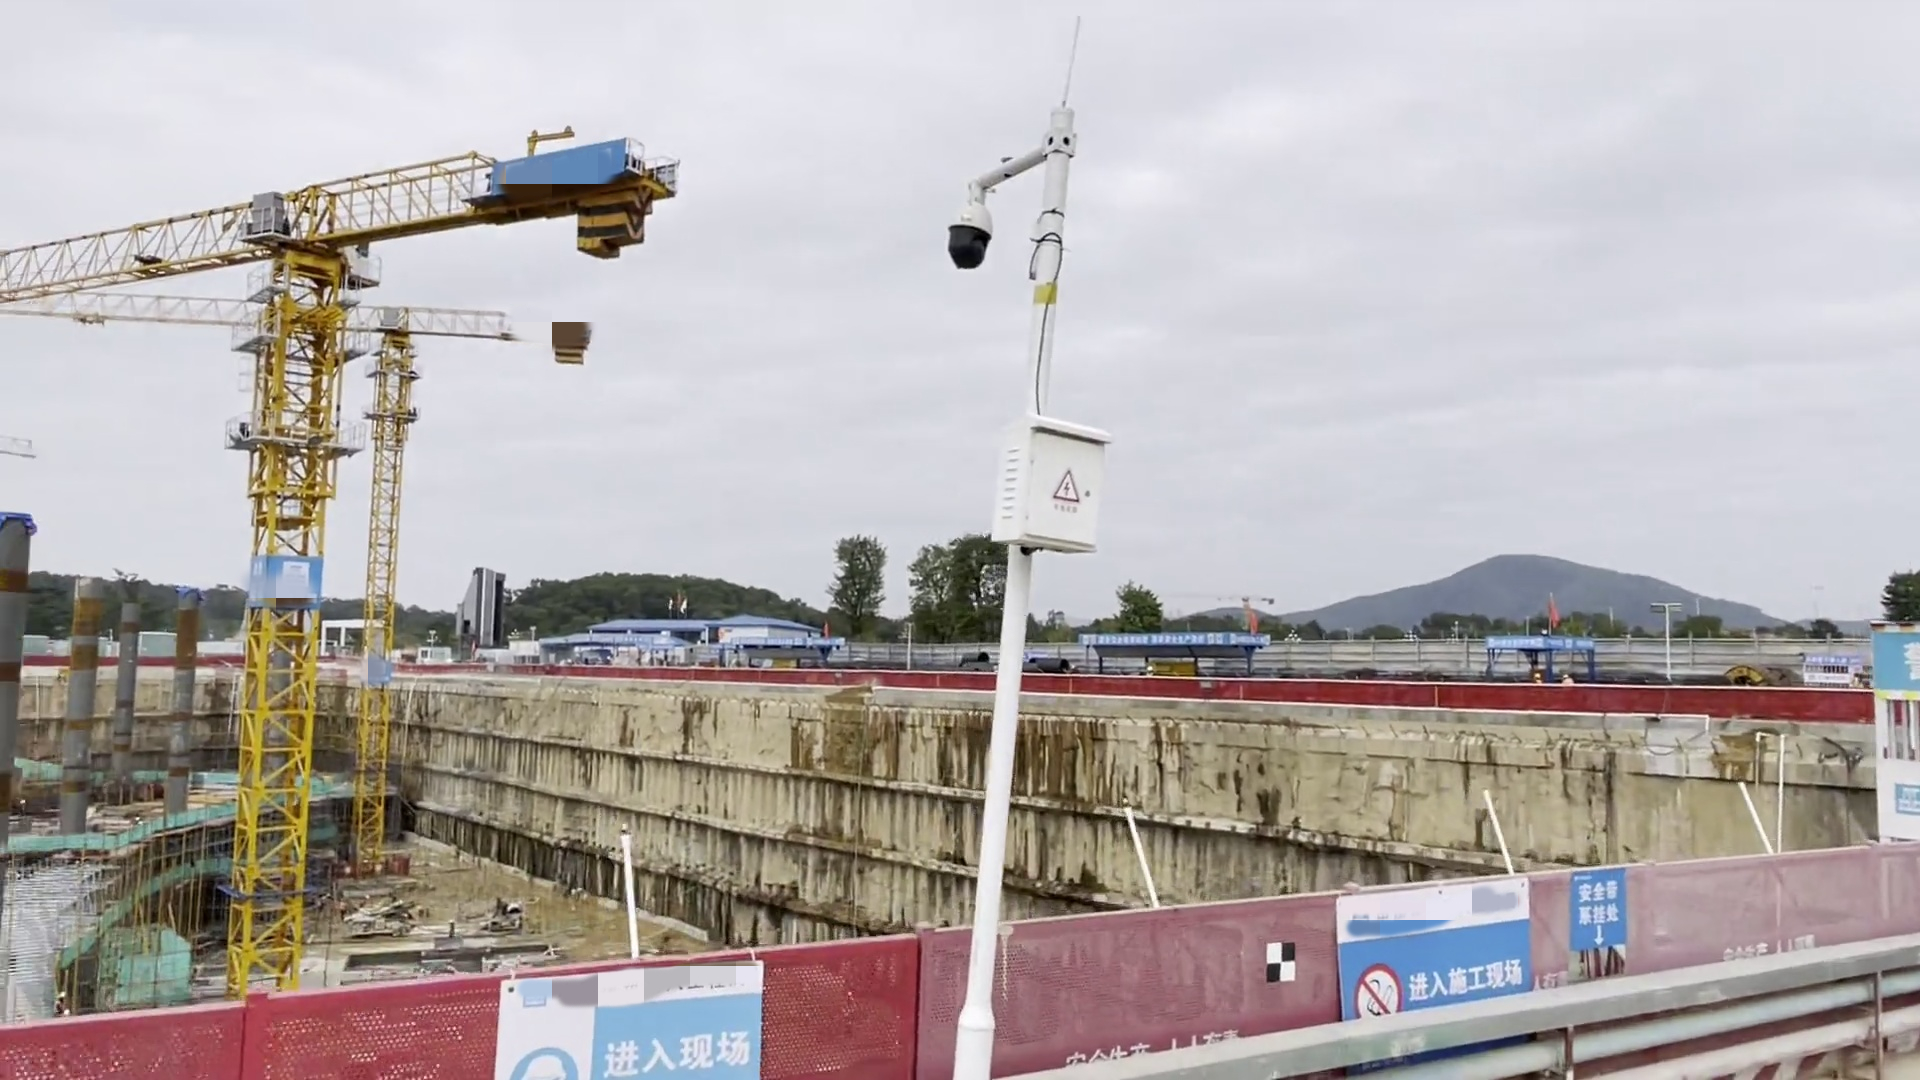ebox: (993, 414, 1112, 555)
fence: (1, 843, 1920, 1080)
slogan: (1333, 877, 1538, 1017), (500, 972, 762, 1080)
